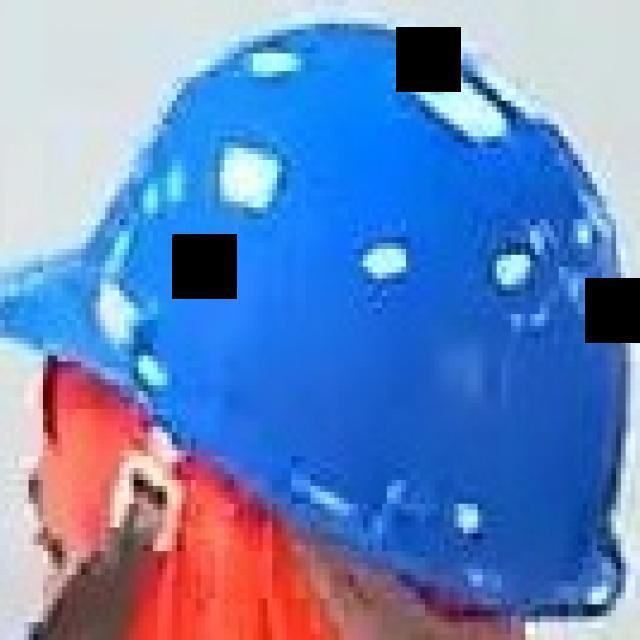blue helmet: (2, 9, 640, 640)
